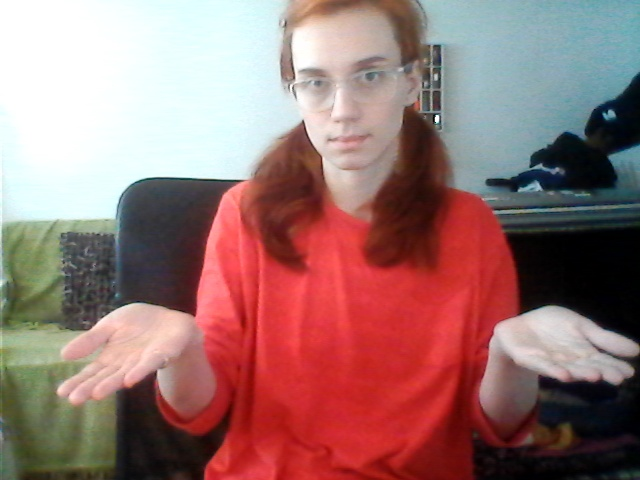alebo: (54, 297, 633, 404)
